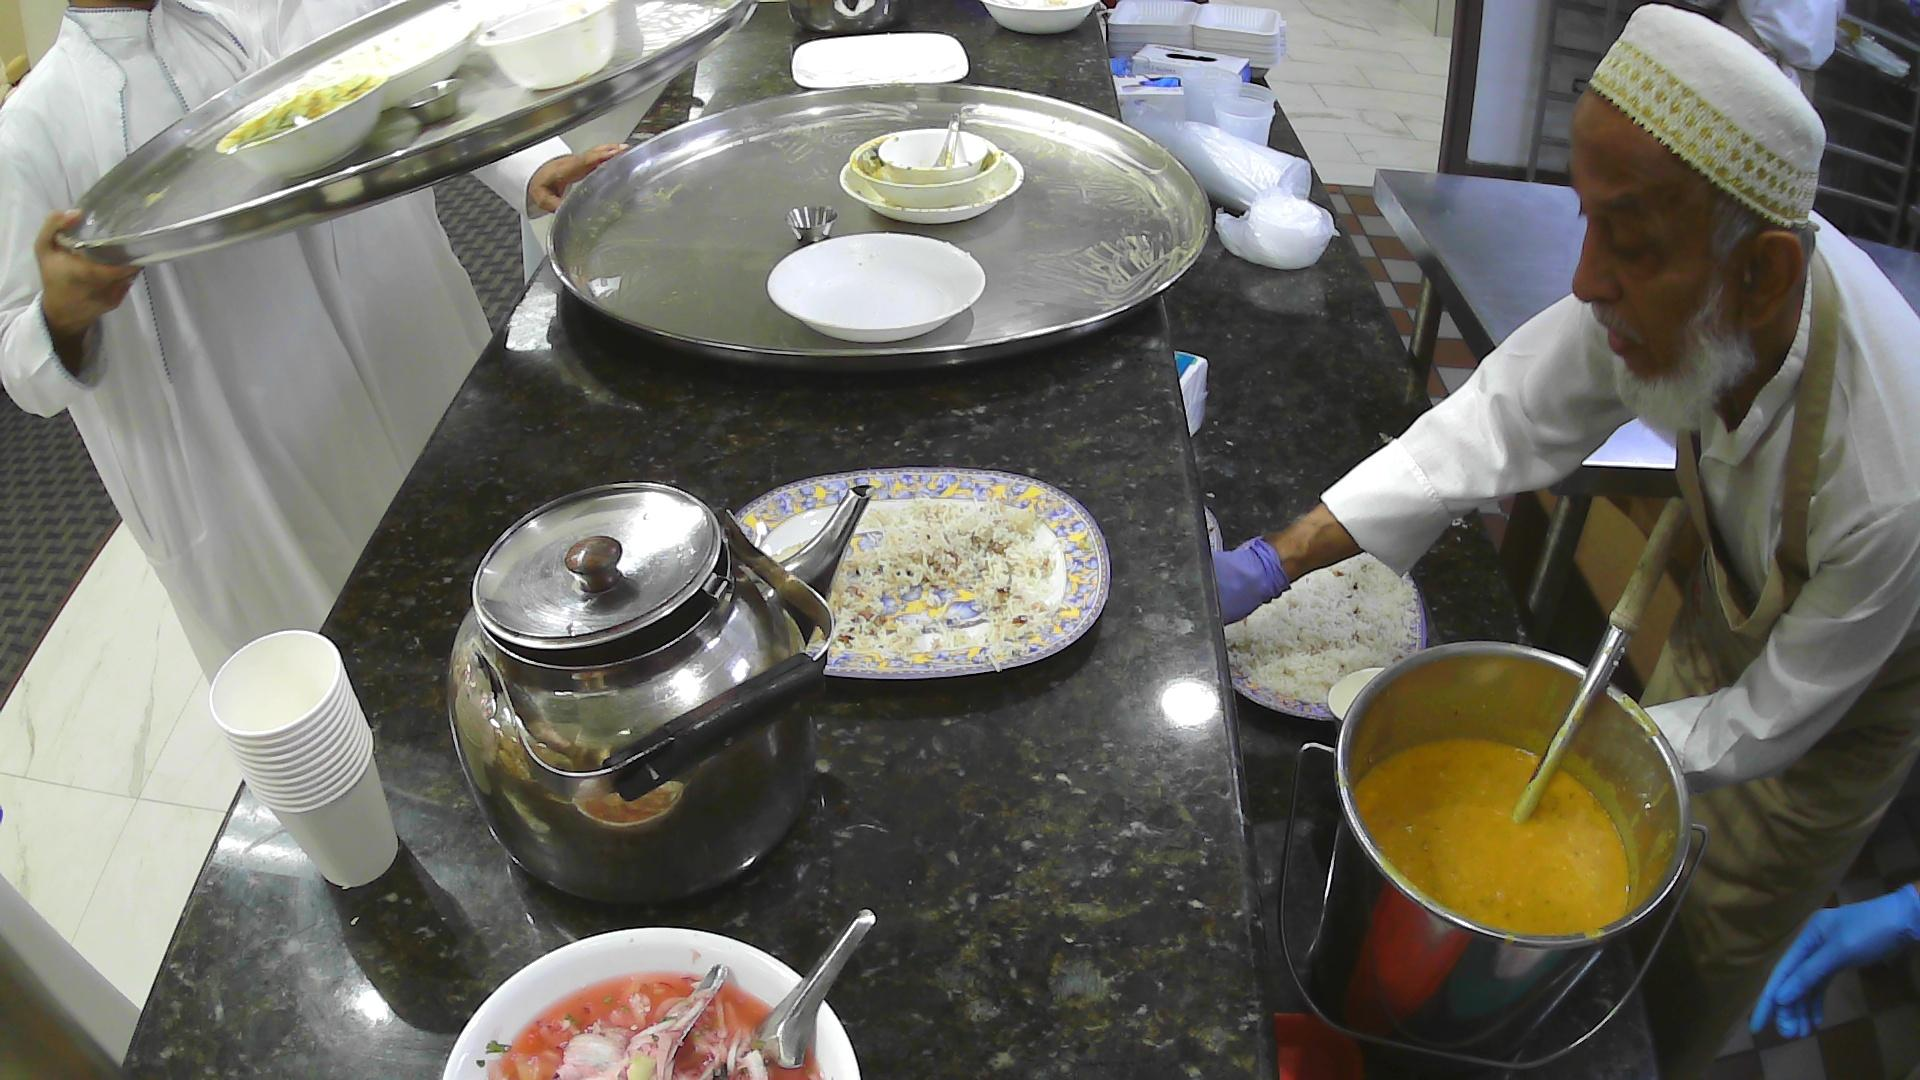thaal: (546, 80, 1216, 381), (46, 0, 764, 269)
